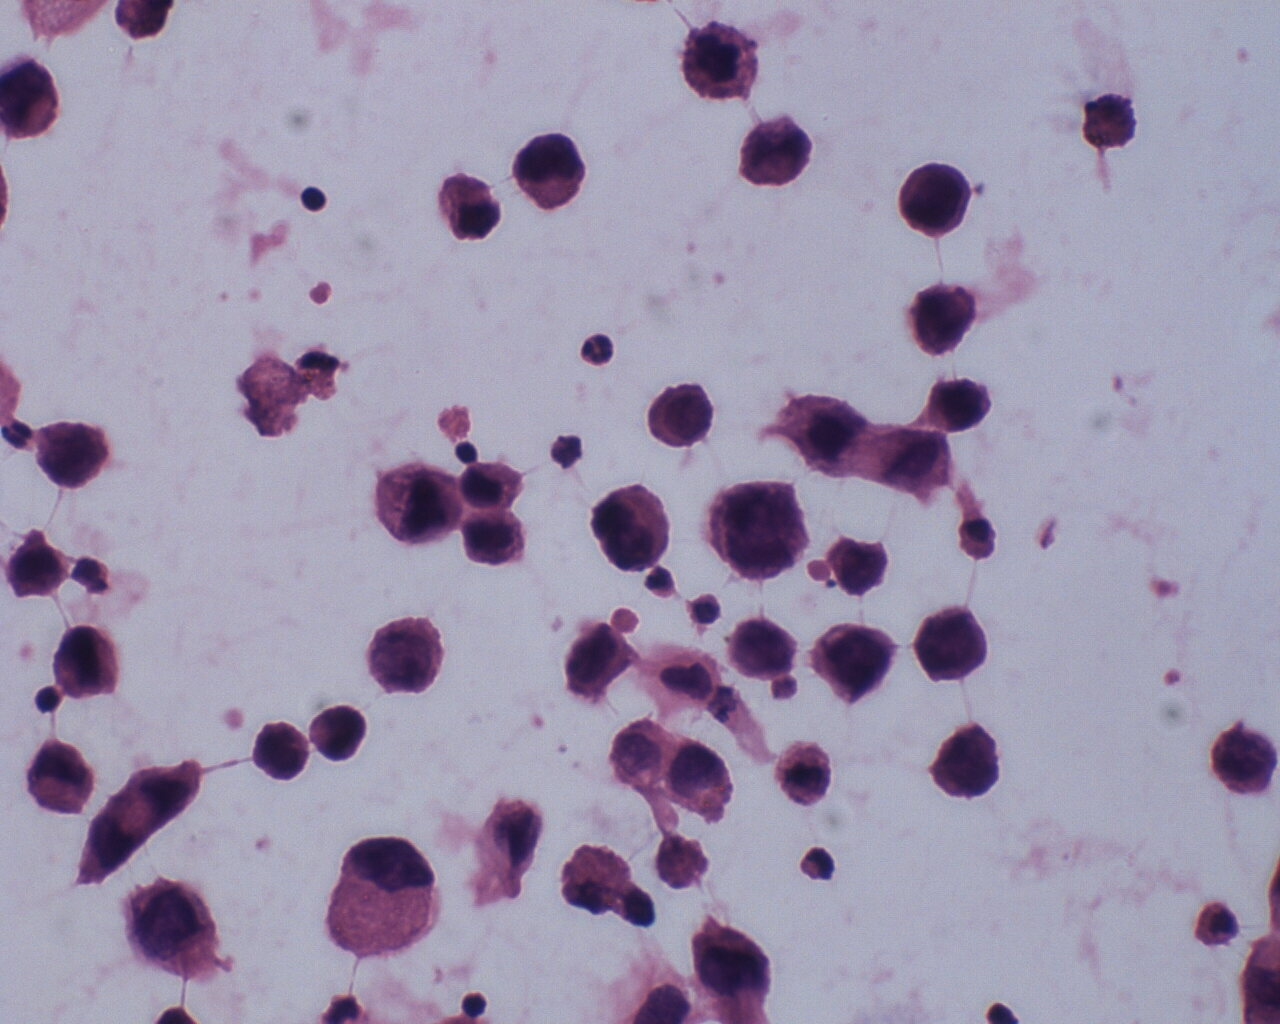ab: (701, 474, 808, 585), (123, 880, 224, 985), (365, 611, 451, 705), (590, 479, 670, 577), (375, 460, 461, 546), (815, 619, 898, 707), (678, 20, 761, 104), (510, 132, 591, 215), (929, 720, 1007, 807), (668, 732, 738, 827), (898, 158, 977, 240), (914, 606, 991, 686), (564, 622, 637, 705), (910, 282, 984, 363), (1207, 720, 1279, 800), (36, 419, 110, 496), (49, 623, 121, 700), (647, 383, 719, 453), (723, 616, 799, 682), (827, 530, 893, 600), (924, 376, 990, 435), (307, 705, 367, 768), (250, 717, 307, 782)
histo: (322, 834, 439, 960)
lymph: (297, 179, 327, 215)
neutro: (798, 838, 839, 887), (579, 326, 616, 370)
